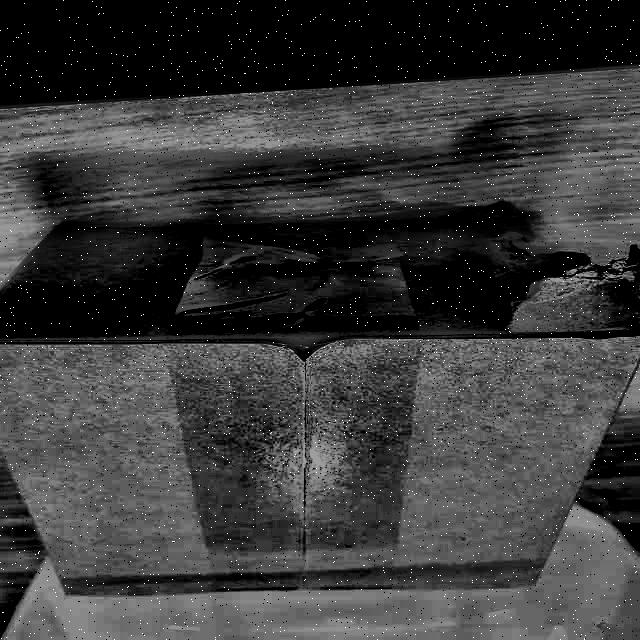box: (0, 193, 639, 607)
hole: (493, 232, 638, 337)
